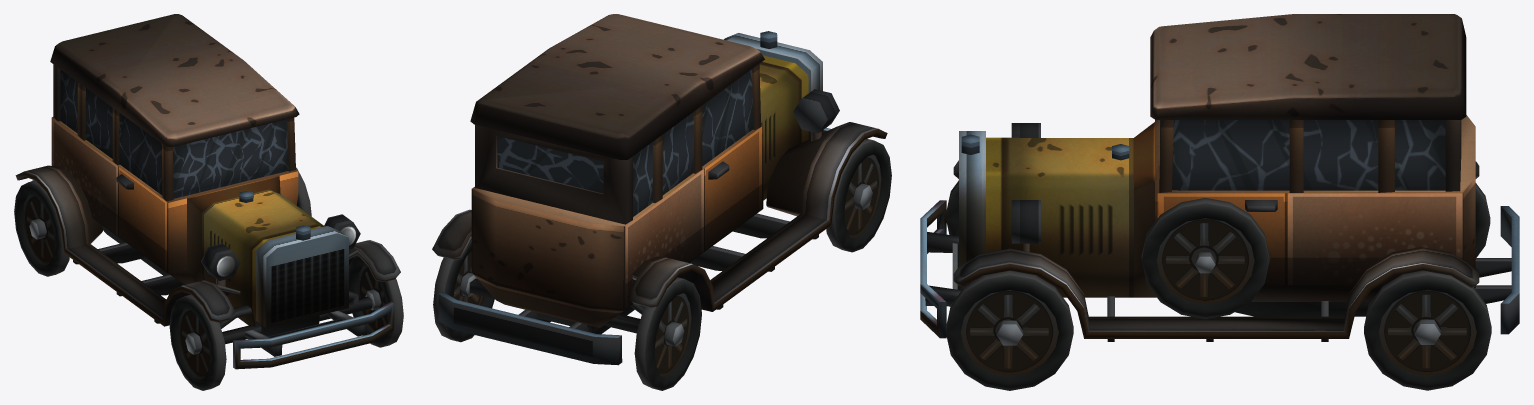
The model's file is decor_car_01.fbx.
The picture shows the model from 3 angles, left to right: view 1: azimuth 30°, elevation 25°; view 2: azimuth 150°, elevation 25°; view 3: azimuth 270°, elevation 25°; orthographic projection. The views are drawn at different scales.
Visible parts, largest first — view 1: Object01; view 2: Object01; view 3: Object01.
Boxes of the visible parts, x1=… form: Object01: x1=14, y1=14, x2=403, y2=390; Object01: x1=432, y1=14, x2=891, y2=390; Object01: x1=920, y1=14, x2=1519, y2=390.
Bounding box in the file's own units: 232 × 249 × 478.
